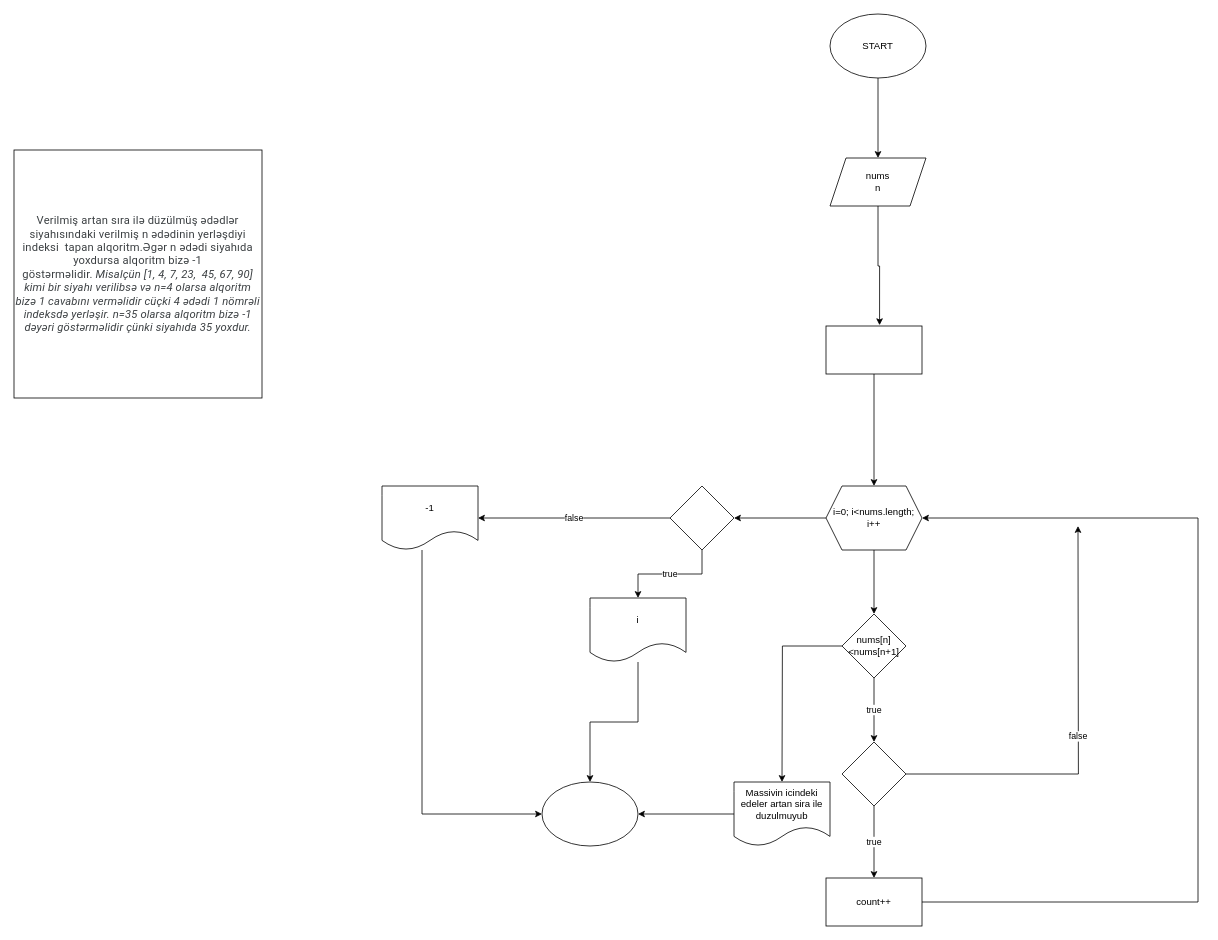
This 1218x940 diagram has some shape labels left out. The shapes that lost their labels are listed below. From the top down, each one's box as (x1, y1, x2, y2) in pixels, then its label:
(825, 325, 922, 374): count=0
(669, 485, 734, 550): count!=0
(841, 741, 906, 806): n==nums[i]
(541, 781, 638, 846): END
